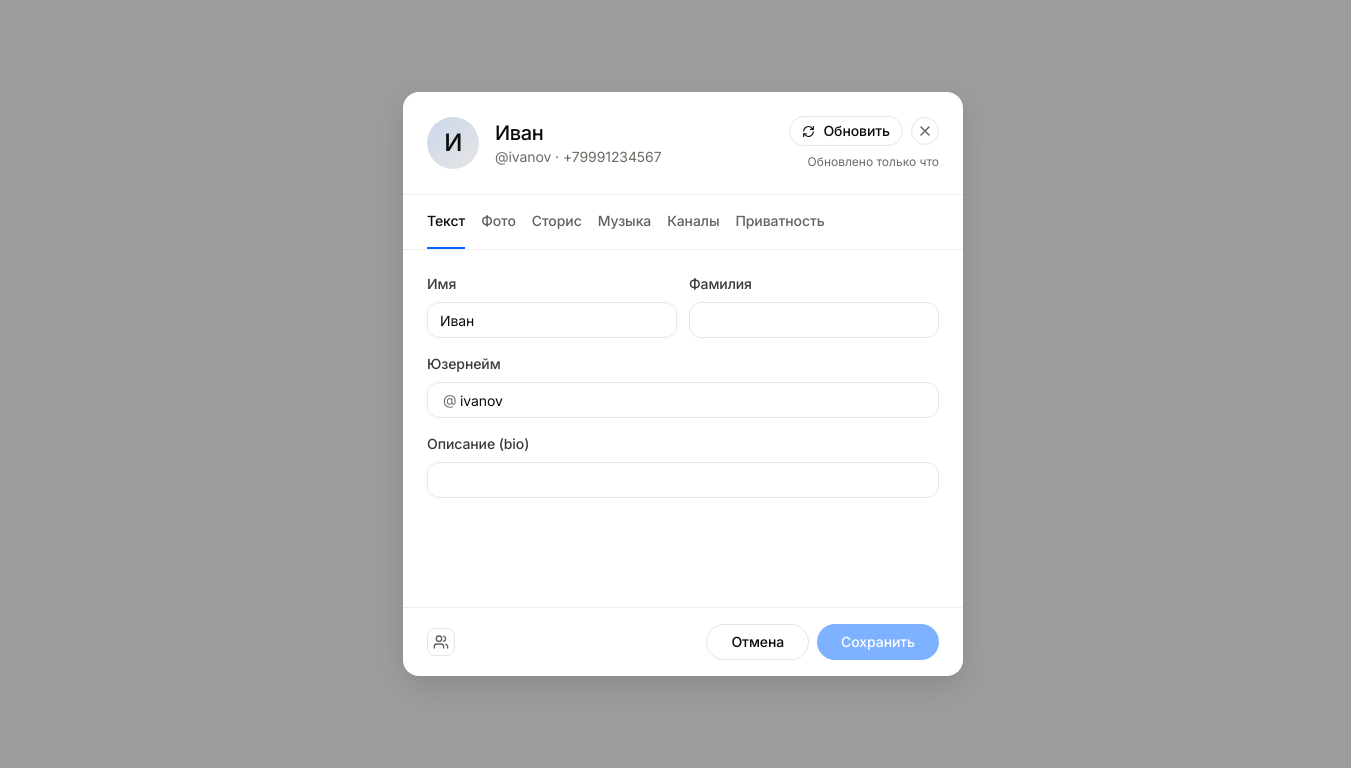
the stories tab shows the view count on each story
Click the tab "Сторис".
click(557, 222)  # box [532,195,582,249]
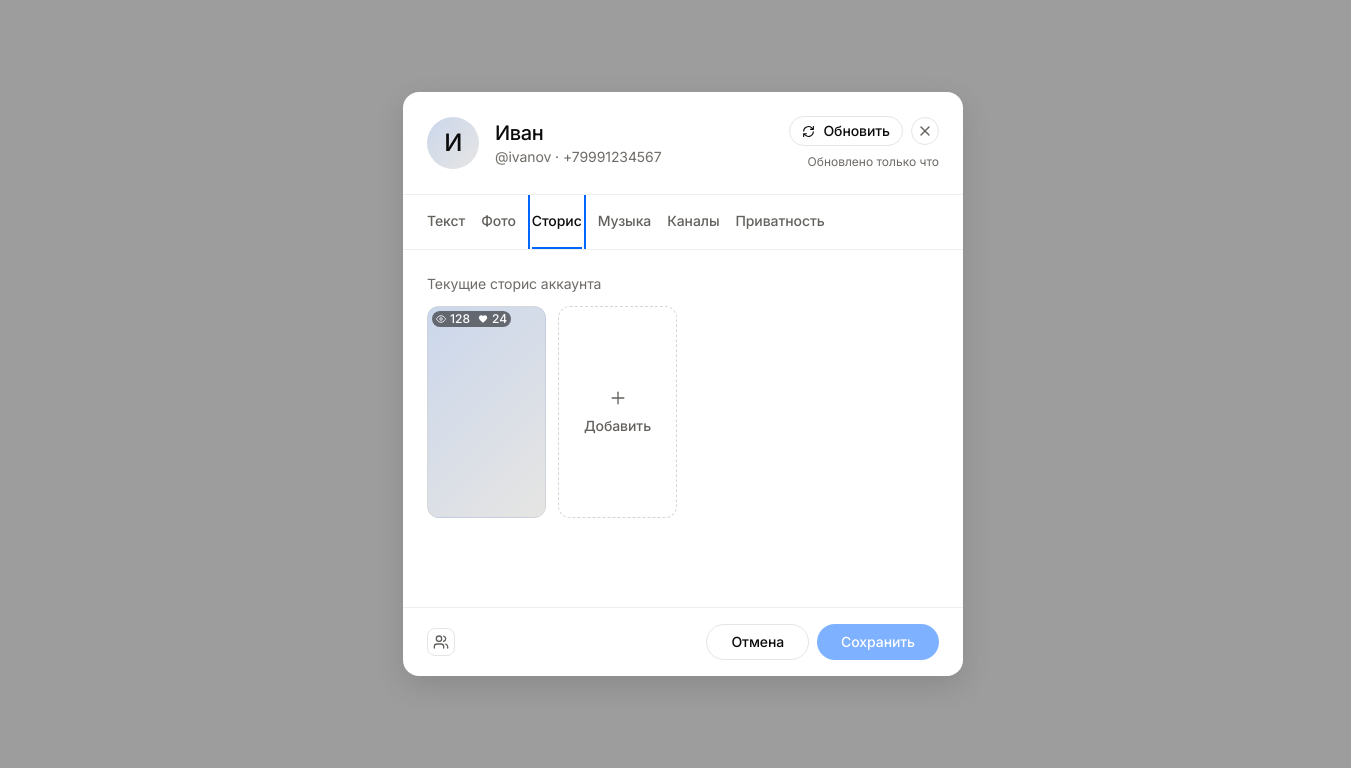
Check: the text "128" is shown, box [436,311,470,327]
